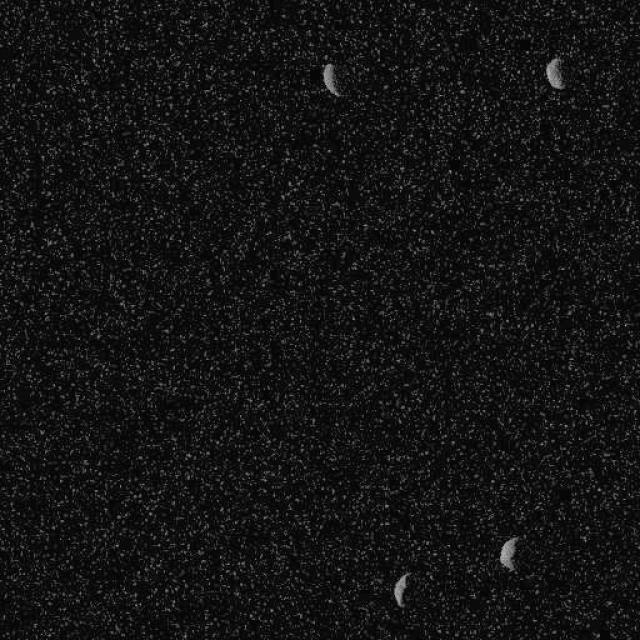D2: (321, 62, 344, 98), (499, 535, 519, 573), (391, 570, 411, 608), (544, 55, 565, 89)
